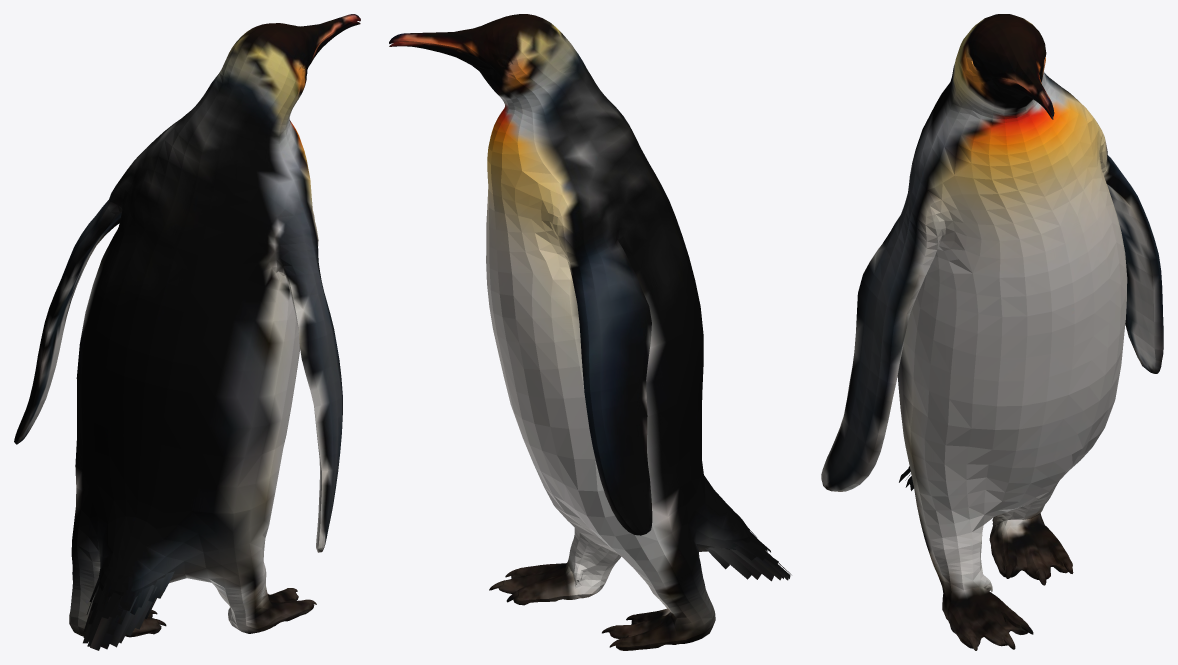
Rendered from penguin.mesh.glb.
The picture shows the model from 3 angles, left to right: view 1: azimuth 30°, elevation 25°; view 2: azimuth 150°, elevation 25°; view 3: azimuth 270°, elevation 25°; orthographic projection. The views are drawn at different scales.
Parts seen in each view (by area): view 1: root; view 2: root; view 3: root.
Part boxes in pixels (x1,y1,x2,y2): root: [14, 14, 360, 650]; root: [389, 14, 791, 650]; root: [821, 14, 1163, 650].
Bounding box in the file's own units: 0.3673 × 0.6008 × 0.3015.
1 material, 1 textured.
